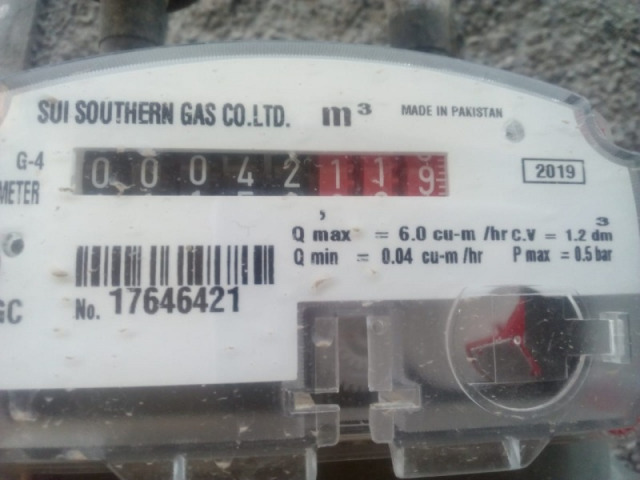ssgc: (66, 144, 453, 207)
